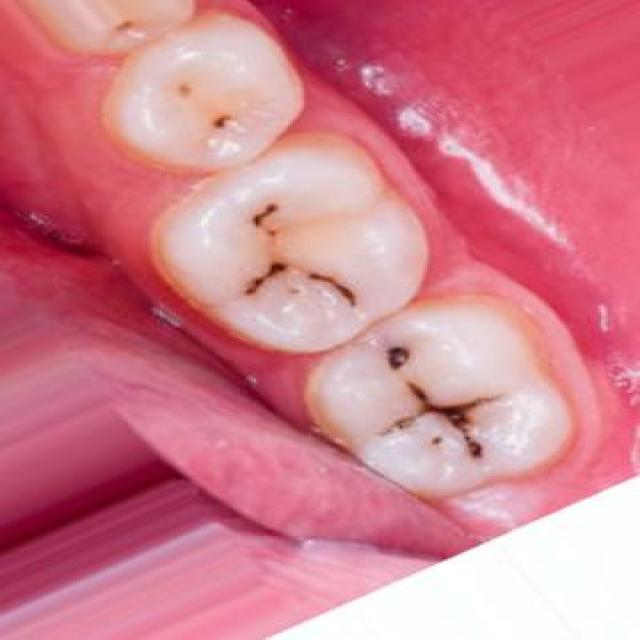caries: (372, 372, 512, 471), (229, 255, 305, 311), (298, 260, 364, 316), (240, 196, 296, 248), (374, 337, 432, 385), (194, 103, 250, 147), (152, 68, 208, 110)
